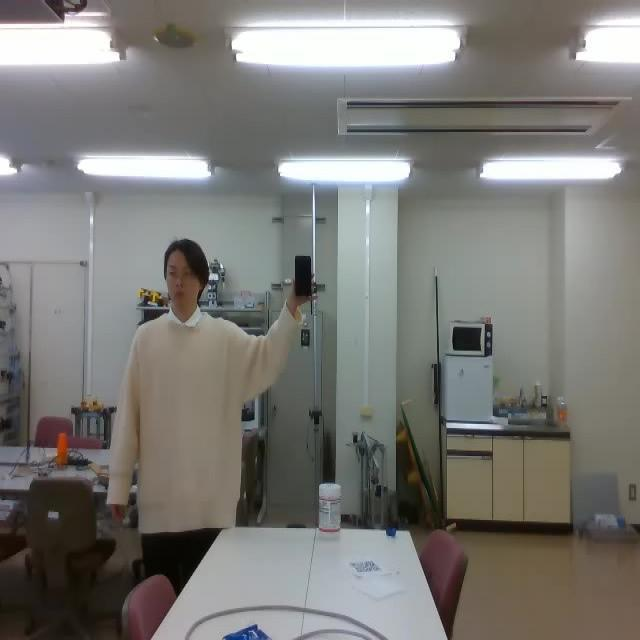Phone: (293, 253, 314, 298)
